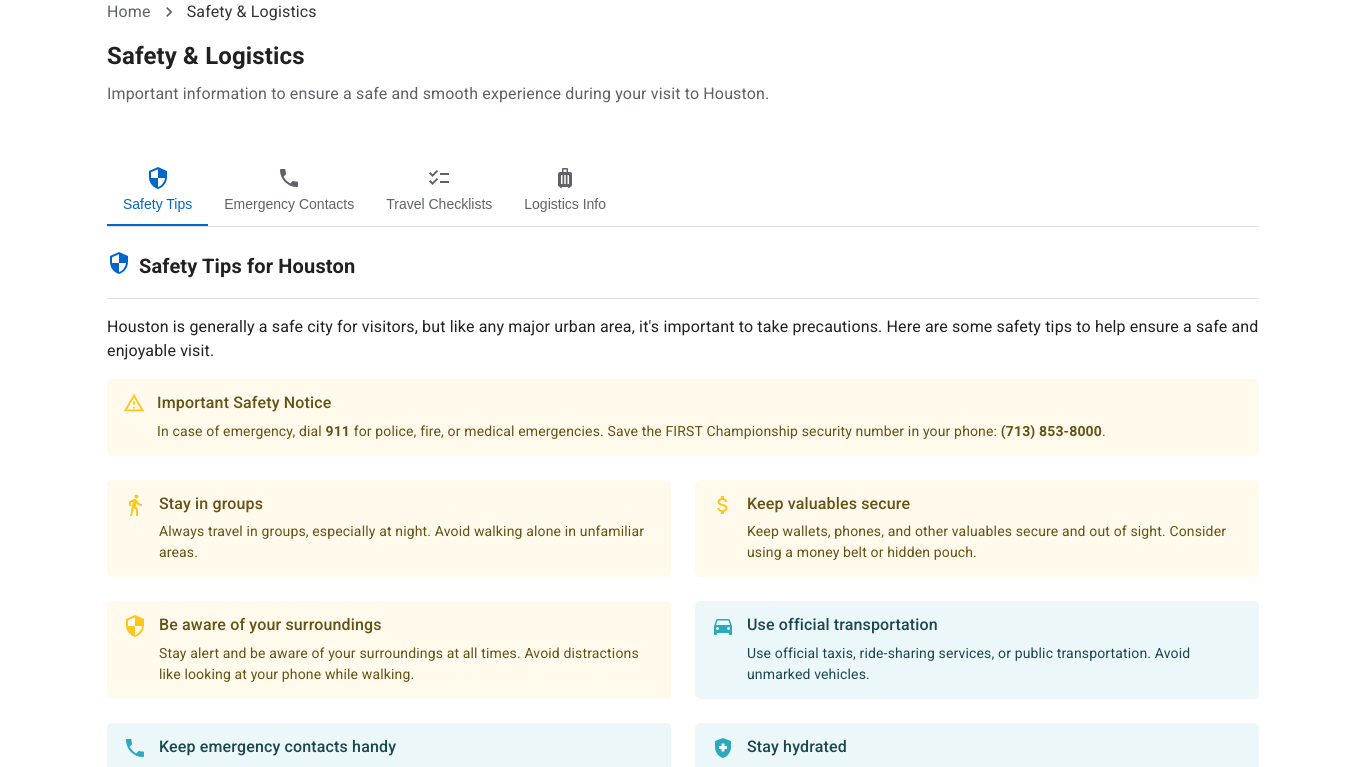
Test: SafetyLogisticsPage › renders transportation information in the Logistics Info tab
// Click on the Logistics Info tab
Click the tab "Logistics Info". click: (565,190)
box: [508,154,622,226]
(page scrolled)
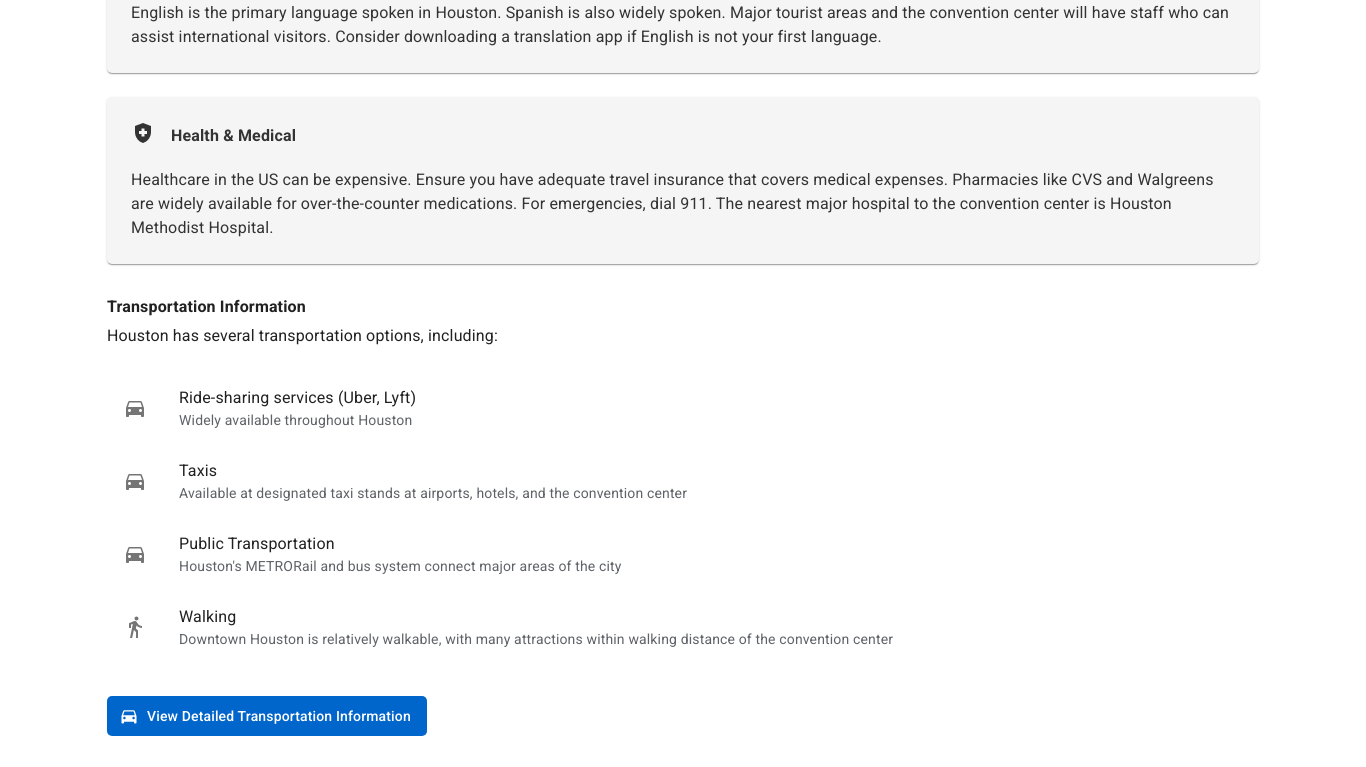
Expected: the text "Taxis" is shown, [179,461,217,480]
Now the heading "Transportation Information" is shown, box [107,297,306,316]
Now the text "Ride-sharing services (Uber, Lyft)" is shown, box [179,388,416,407]
